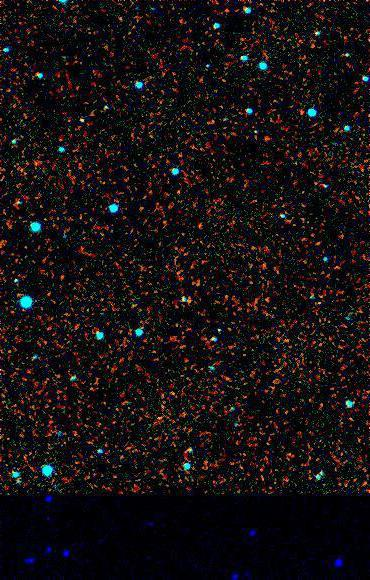star: (124, 363, 154, 393)
